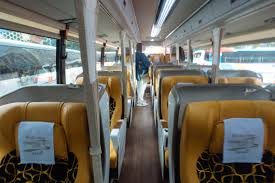seat: (198, 100, 273, 182)
